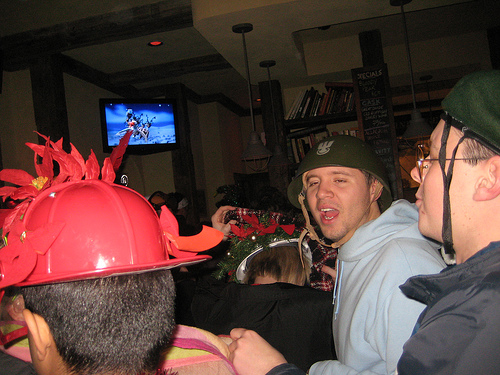helmet: (11, 190, 198, 277), (295, 134, 391, 192)
